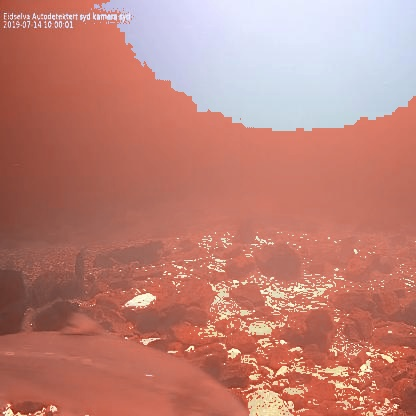salmon: (0, 306, 250, 416)
